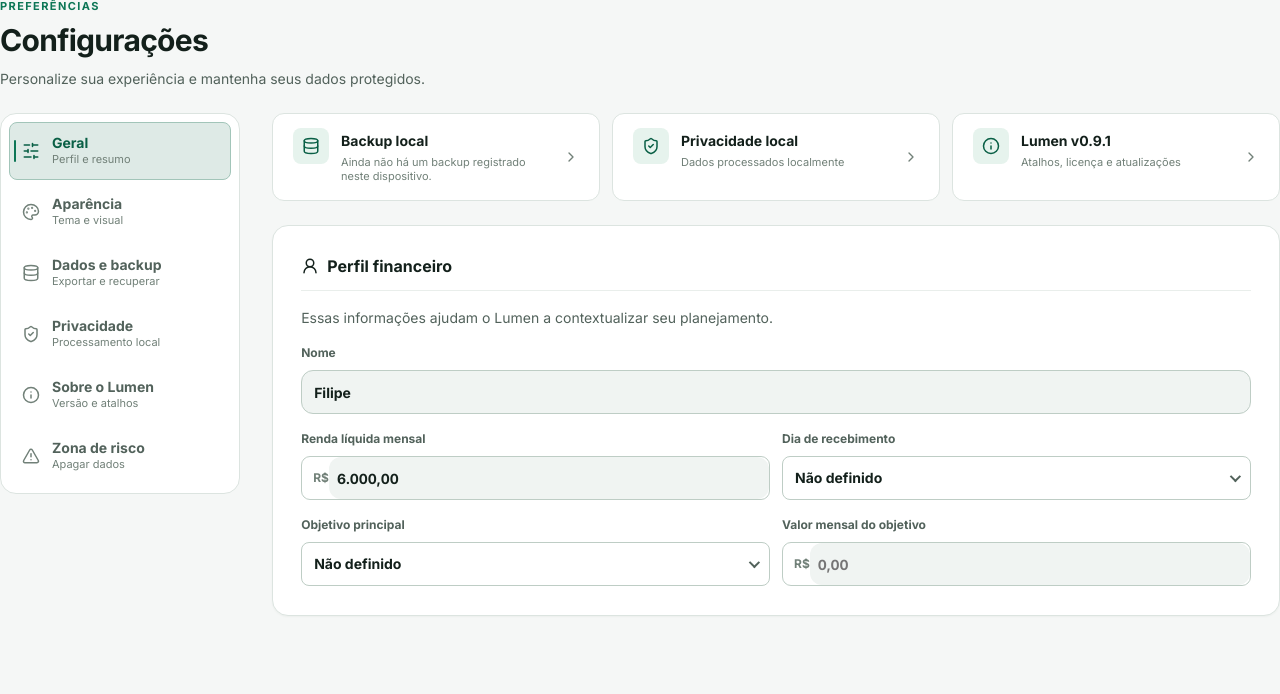
Scenario: SettingsPage › validates the complete profile name constraint before saving
This screenshot has width=1280, height=694.
Replace the text in the field labelled "Nome" with "A" at [776, 392], box [301,370,1251,414]
(page scrolled)
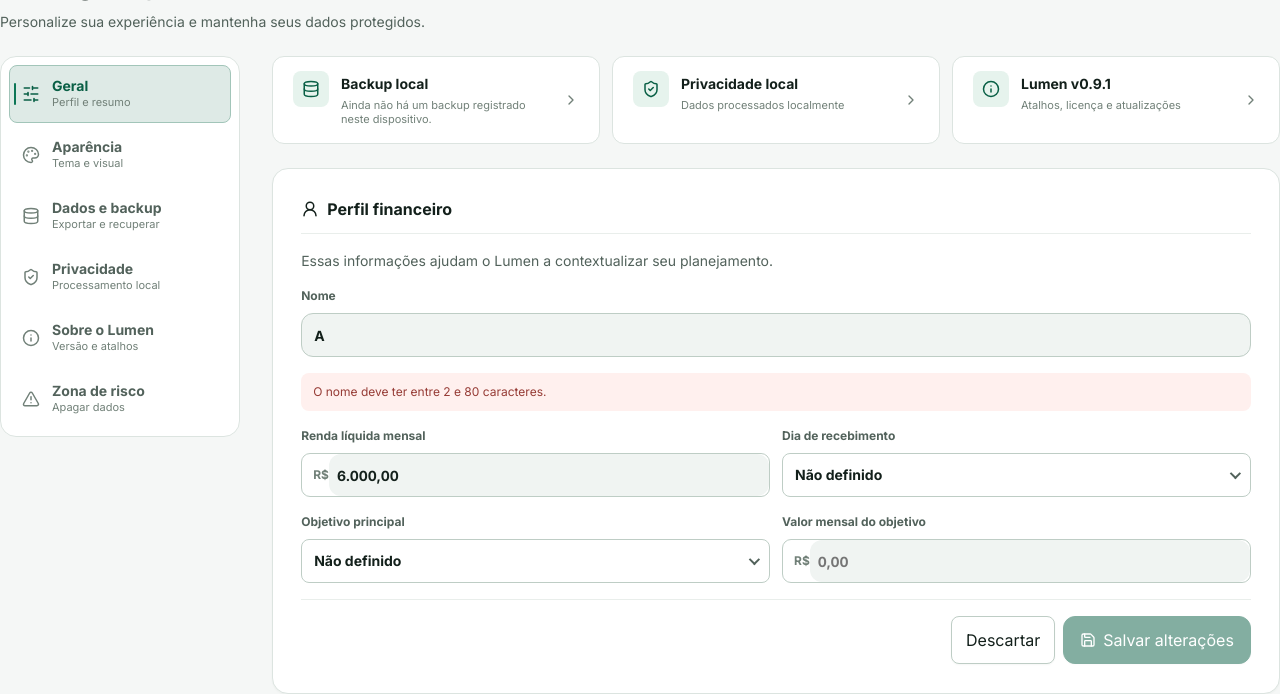
Result: the message shows "entre 2 e 80 caracteres" at [313,384,546,399]
Result: the button "Salvar alterações" is disabled at [1063,616,1251,664]
